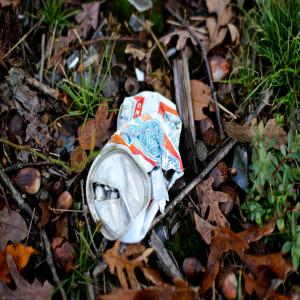Can: (86, 92, 186, 245)
